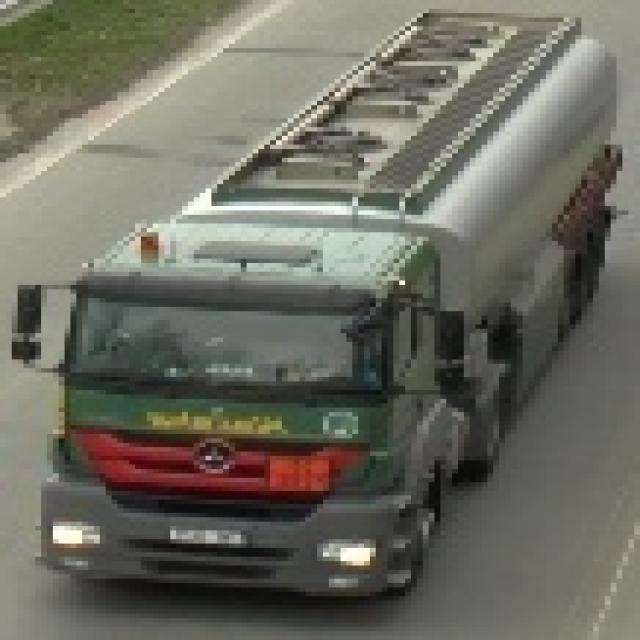TRUCK: (50, 12, 622, 594)
